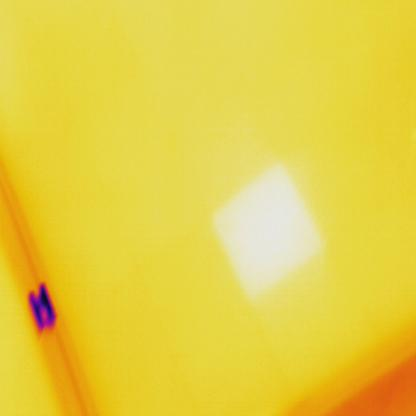hotspot: (205, 157, 334, 304)
